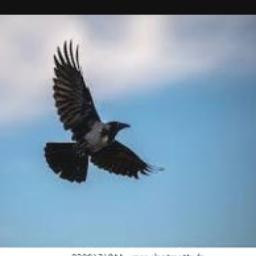Crow: (45, 39, 165, 182)
